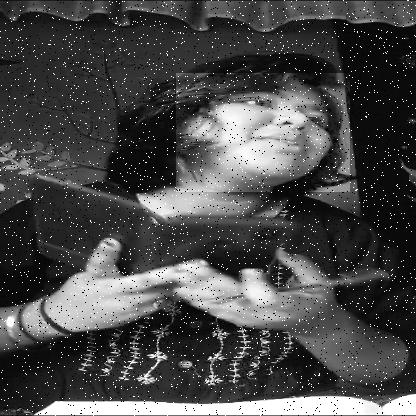Distracted: (176, 73, 350, 192)
